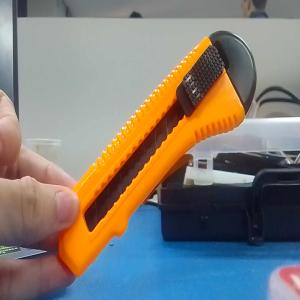estilete: (58, 31, 257, 277)
